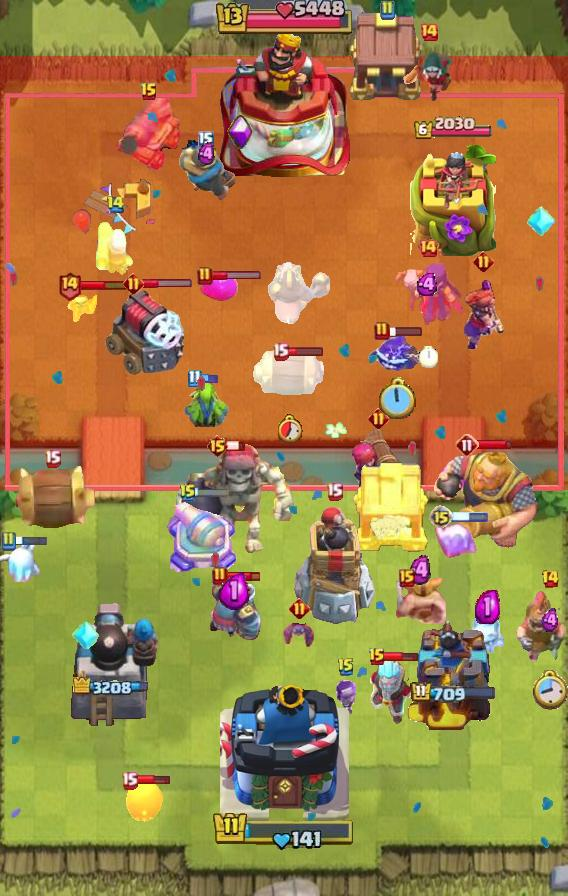bandit: (403, 47, 455, 105)
bar: (80, 279, 133, 291), (142, 278, 193, 289), (211, 270, 262, 281), (12, 534, 49, 547), (226, 570, 261, 583), (477, 439, 513, 451), (387, 325, 423, 337), (136, 774, 171, 786), (384, 651, 419, 663), (287, 346, 324, 357), (195, 487, 230, 498), (451, 512, 489, 522), (226, 440, 246, 452), (200, 373, 219, 384)
bar-level: (57, 270, 82, 301), (429, 505, 453, 529), (455, 433, 479, 457), (206, 434, 229, 458), (289, 598, 310, 619), (368, 408, 389, 429), (123, 273, 144, 294), (473, 251, 494, 272), (418, 238, 438, 258), (419, 22, 439, 42), (541, 569, 560, 589), (106, 195, 125, 214), (337, 657, 355, 677), (368, 647, 386, 667), (179, 483, 197, 503), (140, 82, 158, 102), (121, 771, 138, 790), (326, 482, 343, 501), (44, 449, 61, 468), (272, 342, 289, 361), (212, 566, 228, 586), (0, 531, 16, 551), (374, 321, 390, 341), (197, 266, 213, 286), (379, 0, 395, 20), (399, 569, 415, 587), (198, 131, 214, 149), (187, 369, 202, 388)
barbarian-barrel: (7, 464, 97, 532), (252, 349, 328, 399)
bat: (282, 622, 316, 650)
cannoneer-tower: (69, 599, 159, 731)
clock: (377, 377, 416, 422), (532, 670, 568, 711), (278, 414, 303, 443), (419, 346, 438, 368)
electro-spirit: (368, 333, 424, 373)
elite-barbarian: (394, 575, 446, 625)
elixir: (219, 571, 250, 610), (475, 590, 500, 624), (409, 555, 431, 586), (416, 273, 440, 296), (541, 608, 560, 633), (198, 142, 215, 166)
elixir-golem-small: (198, 274, 238, 302)
evolution-symbol: (227, 114, 253, 150)
firecracker: (94, 219, 136, 277)
firecracker-evolution: (350, 425, 406, 497)
goblin: (181, 379, 231, 427)
ice-spirit: (466, 611, 508, 655), (0, 542, 42, 582)
ice-spirit-evolution: (433, 520, 479, 562)
ice-spirit-evolution-symbol: (72, 618, 100, 652), (527, 204, 555, 238)
ice-wizard: (356, 656, 420, 728)
king-tower: (218, 27, 350, 181), (220, 678, 349, 826)
king-tower-bar: (212, 810, 356, 852), (213, 0, 355, 38)
knight: (177, 140, 235, 201)
mega-minion: (206, 580, 262, 640)
phoenix-egg: (124, 779, 164, 823)
queen-tower: (405, 617, 501, 731), (410, 145, 496, 256)
royal-recruit: (516, 591, 568, 661)
skeleton: (67, 290, 97, 322)
skeleton-evolution: (331, 679, 362, 715)
tower-bar: (410, 681, 497, 705), (413, 116, 493, 141), (73, 677, 155, 699)
valkyrie-evolution: (461, 276, 505, 352)
witch: (393, 263, 463, 325)
